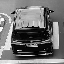motor: (11, 7, 49, 55)
